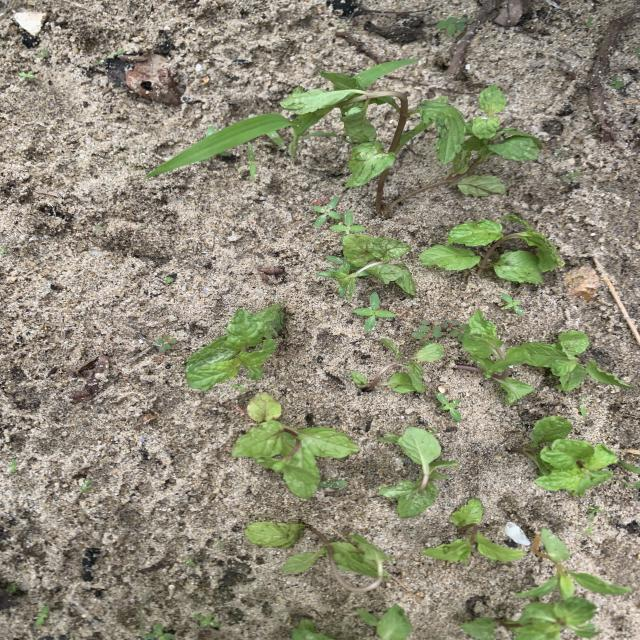crop: (281, 73, 541, 217), (233, 394, 357, 497), (245, 522, 390, 593), (423, 216, 562, 282), (509, 417, 616, 495), (187, 304, 283, 390), (455, 310, 533, 405), (379, 428, 458, 515), (522, 330, 630, 391), (423, 499, 522, 562), (324, 235, 415, 298), (462, 598, 598, 639), (351, 339, 442, 391), (292, 620, 331, 639)
weed: (145, 112, 325, 174), (520, 529, 630, 600), (355, 293, 395, 330), (331, 210, 364, 234), (314, 197, 339, 224), (437, 393, 460, 420), (437, 17, 469, 35), (413, 321, 444, 339), (144, 623, 174, 639), (501, 293, 523, 314), (439, 321, 461, 336), (195, 614, 219, 627), (248, 142, 256, 180), (155, 335, 175, 350), (35, 605, 49, 626), (577, 394, 586, 419), (562, 172, 579, 183), (587, 505, 600, 518), (19, 71, 35, 81), (610, 77, 623, 87), (37, 49, 48, 58), (231, 384, 245, 391), (582, 527, 591, 535)
